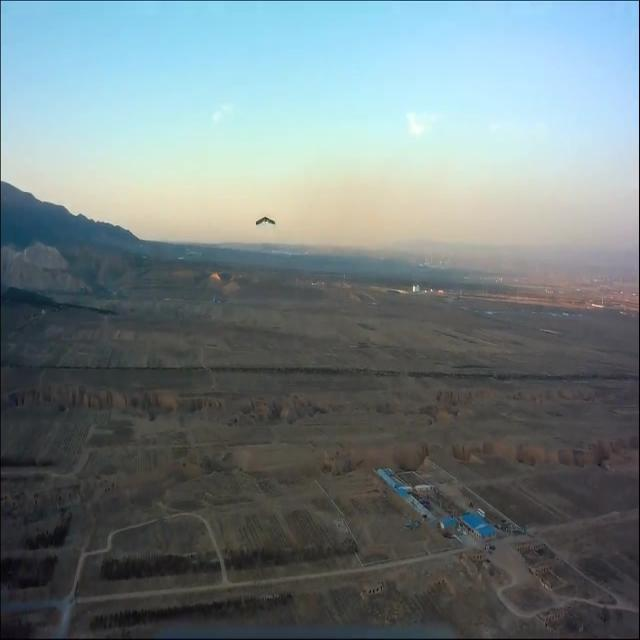iha: (249, 219, 269, 223)
